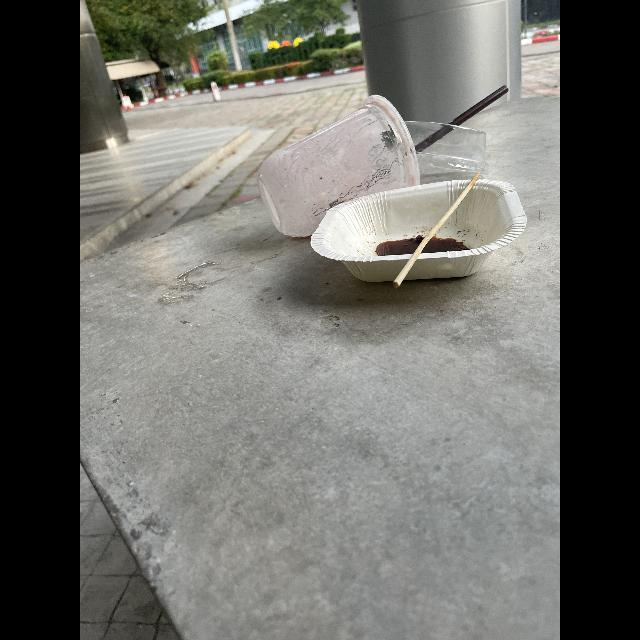cardboard_bowl: (308, 173, 528, 287)
plastic_cup: (256, 90, 422, 244)
stick: (380, 173, 486, 287)
straw: (412, 82, 512, 148)
